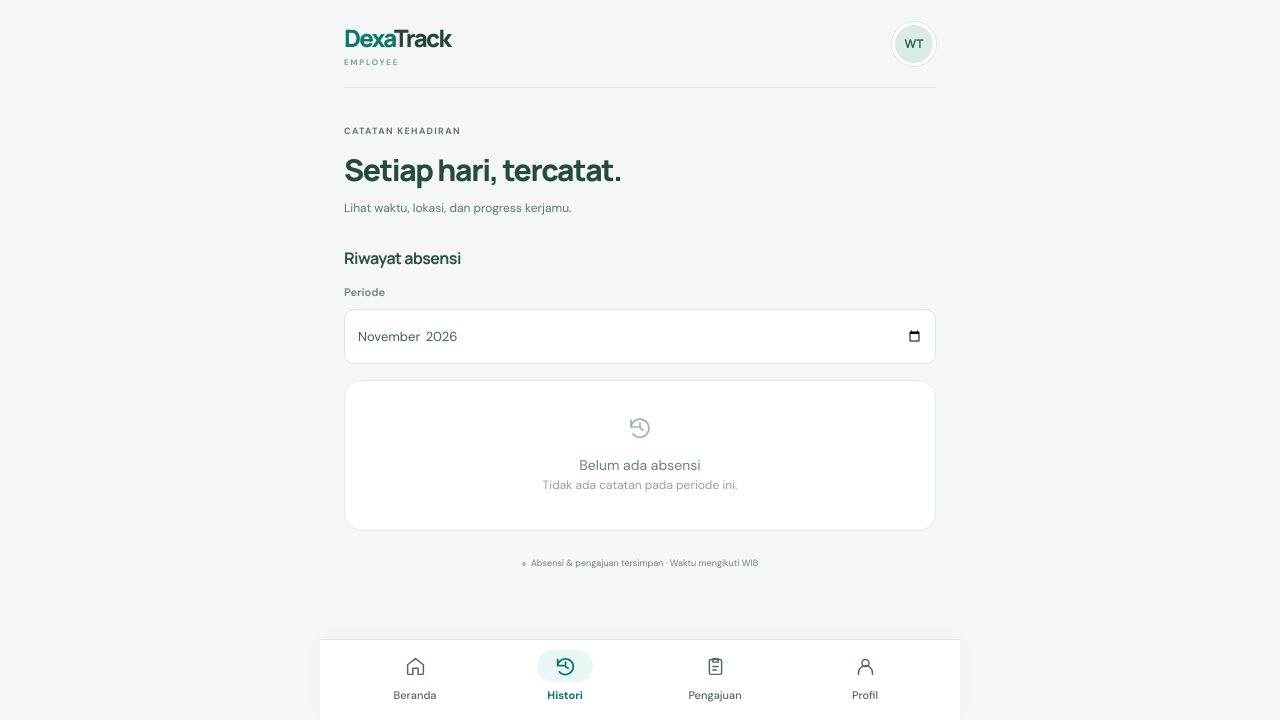
Test case: authenticated application › keeps the employee navigation mounted from History to Profile and exposes account actions
Later steps or results of the test are not shown.
Expected: the link "Histori" is shown, [547,656,583,702]
Click the link "Profil".
click(865, 679)  # box [852,656,878,702]
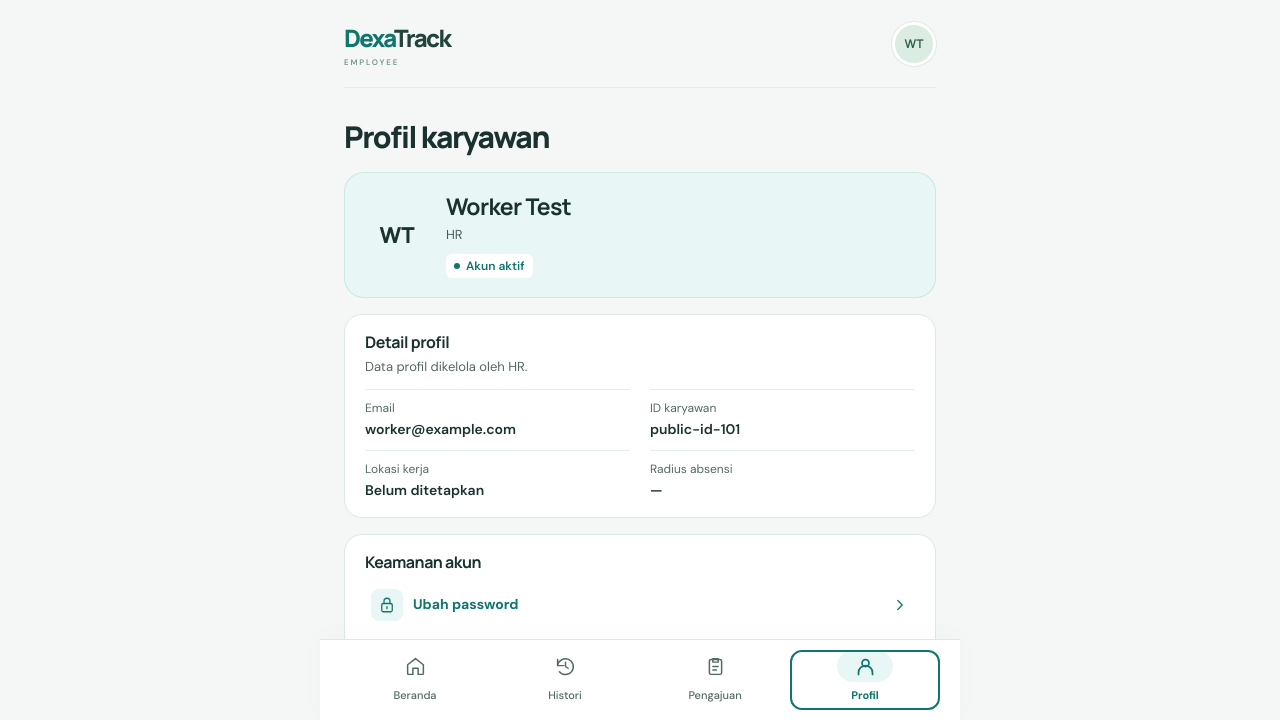
Now the heading "Profil karyawan" is shown, box [344,116,549,157]
Now the text "worker@example.com" is shown, box [365,420,516,438]
Now the text "public-id-101" is shown, box [650,420,740,438]
Click the link "Ubah password".
click(387, 605)  # box [365,581,915,629]
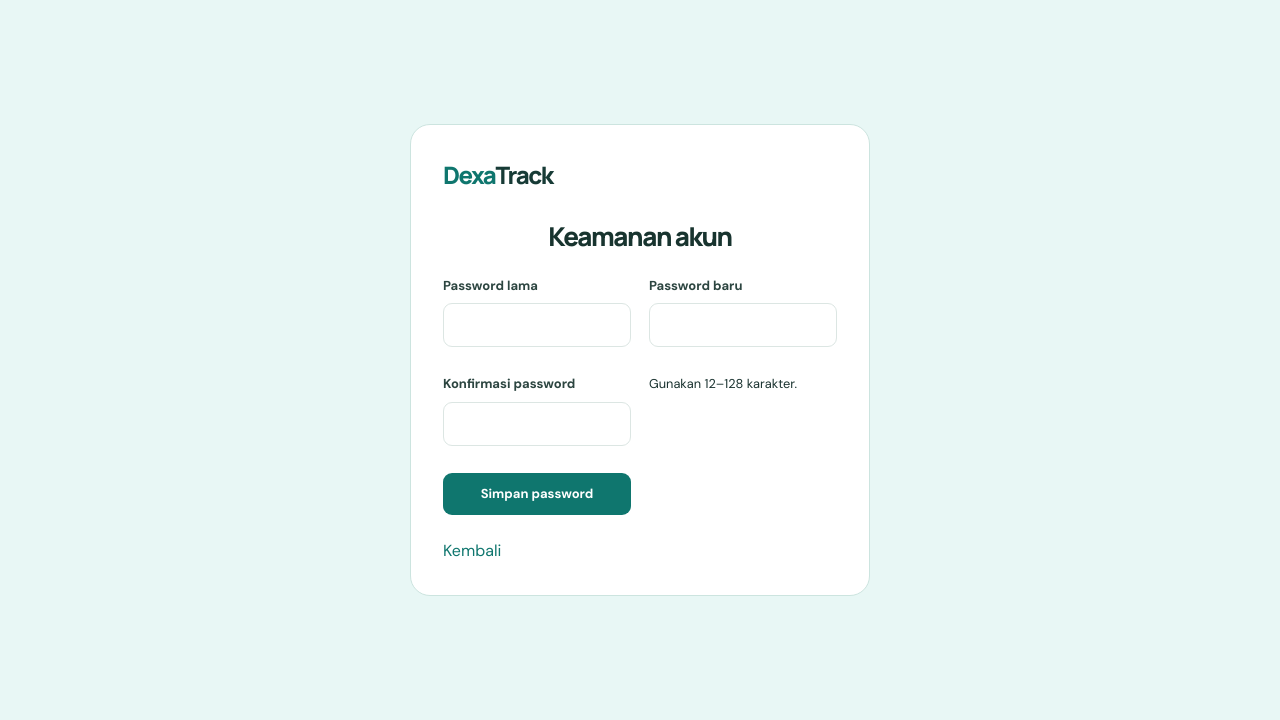
Now the password field labelled "Password lama" is shown, box [443,304,631,348]
